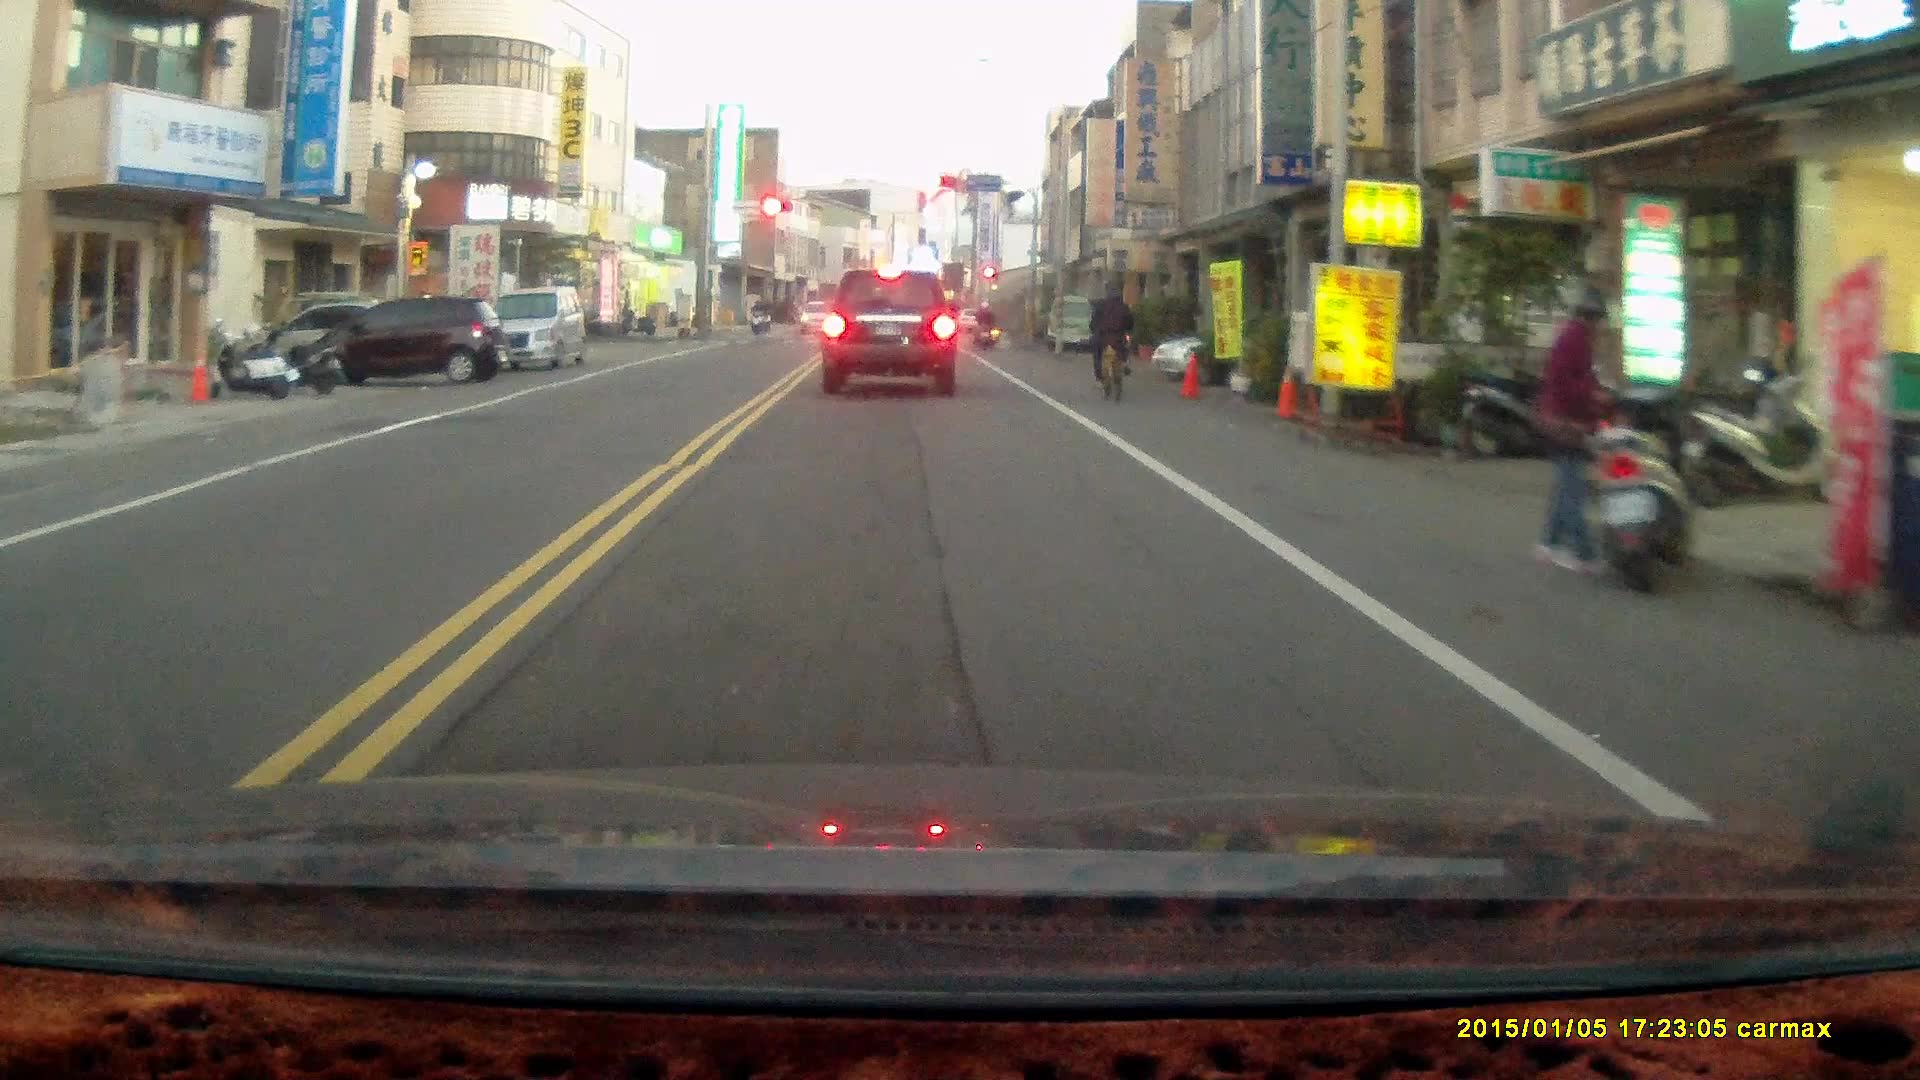pedestrian: (1533, 284, 1629, 577)
rider: (1088, 276, 1138, 402), (972, 295, 997, 349), (747, 297, 769, 337)
vehicle: (307, 295, 507, 394), (820, 268, 959, 399), (1150, 316, 1379, 387), (465, 284, 590, 372)
